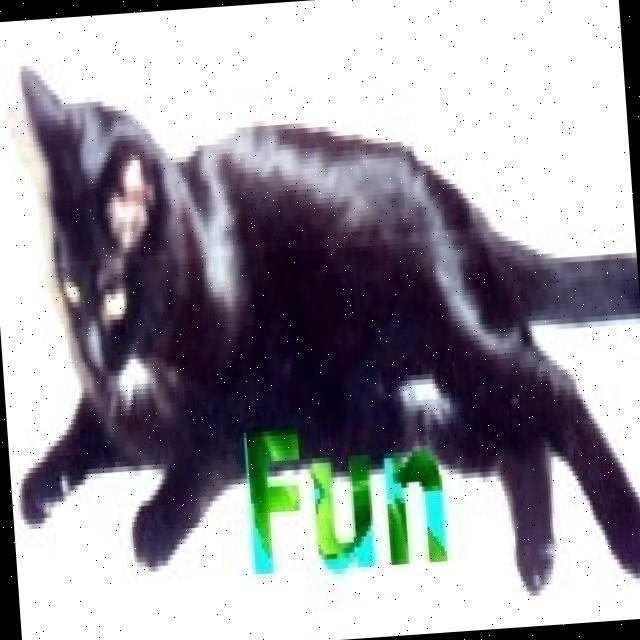Cats: (0, 18, 640, 630)
